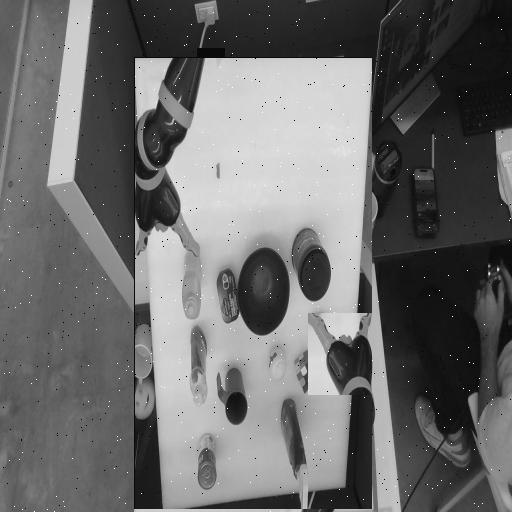bowl: (218, 232, 268, 318)
cleanser: (300, 162, 316, 241)
coffee_can: (176, 267, 214, 338)
jaco: (308, 313, 372, 395)
meat_can: (268, 245, 289, 298)
mug: (259, 143, 289, 199)
mustard_bottle: (305, 249, 324, 317)
rubik: (190, 185, 212, 207)
soup_can: (290, 78, 308, 133)
tennis_ball: (221, 195, 238, 212)
windex: (197, 99, 225, 121)
wooden_block: (170, 219, 195, 244)
workspace: (134, 58, 372, 509)
